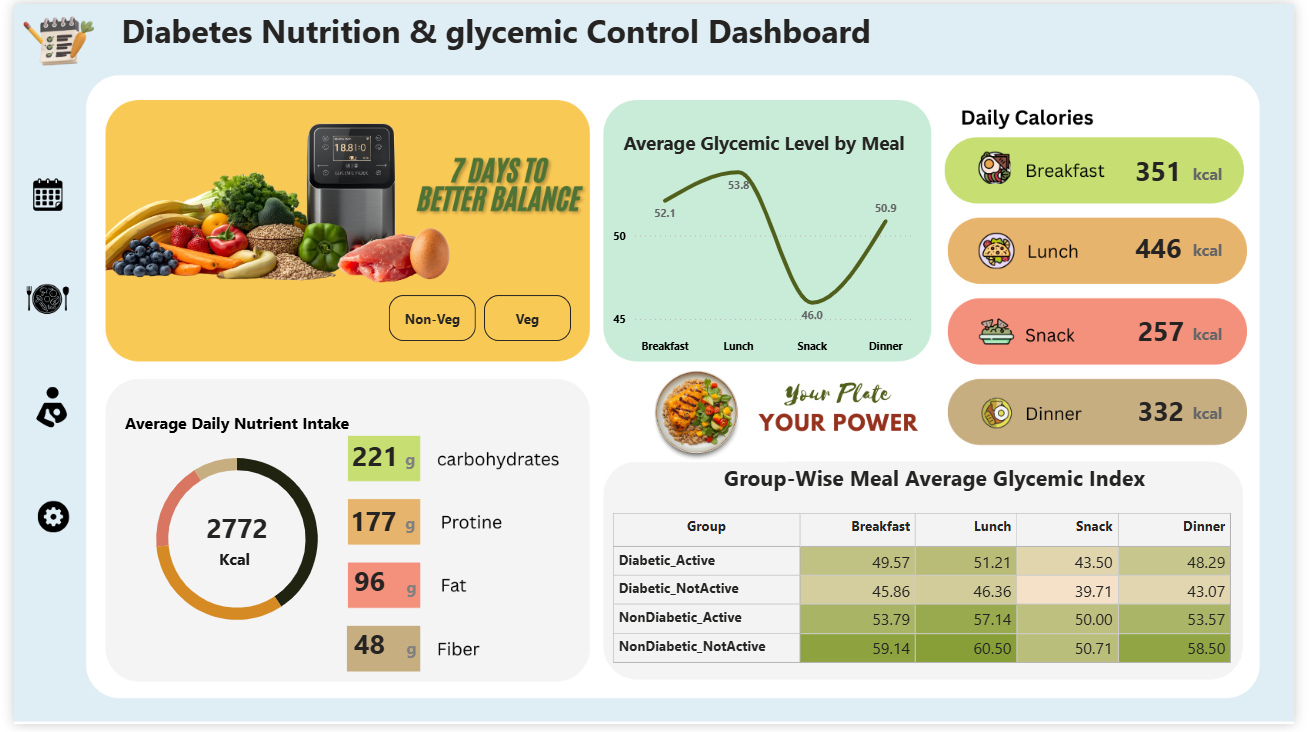

The page's visual inventory and layout, read from the dashboard file:
{"tool":"powerbi","page":{"name":"Page 1","canvas":[1280,720],"ordinal":0},"visuals":[{"type":"textbox","box":[102.5,0,803.8,77.5],"z":0},{"type":"card","fields":{"Values":["Diabetic.Avg Breakfast Calories"]},"box":[1110,143.8,68.8,47.5],"z":1000},{"type":"card","fields":{"Values":["Diabetic.Avg Lunch Calories"]},"box":[1110,223.7,68.9,42.6],"z":2000},{"type":"card","fields":{"Values":["Diabetic.Avg Snack Calories"]},"box":[1118.9,296.3,56.3,63.7],"z":3000},{"type":"card","fields":{"Values":["Diabetic.Avg Dinner Calories"]},"box":[1116.8,391.1,61.6,32.6],"z":4000},{"type":"lineChart","title":"Average Glycemic Level by Meal","fields":{"Category":["Diabetic.Meal"],"Y":["Diabetic.Avg glycemic level"]},"box":[593.8,126.2,312.5,233.8],"z":5000},{"type":"donutChart","title":"Average Daily Nutrient Intake","fields":{"Y":["Diabetic.Avg Carbs per day per Group","Diabetic.Avg Protien per day per Group","Diabetic.Avg Fat per day per Group","Diabetic.Avg Fibre per day per Group"]},"box":[88.8,407.5,268.8,233.8],"z":6000},{"type":"card","fields":{"Values":["Diabetic.Avg Calories per day per Group"]},"box":[183.8,492.5,78.8,65],"z":7000},{"type":"card","fields":{"Values":["Diabetic.Avg Protien per day per Group"]},"box":[327.5,502.5,63.8,31.2],"z":8000},{"type":"textbox","box":[200,538.8,62.5,38.8],"z":9000},{"type":"card","fields":{"Values":["Diabetic.Avg Carbs per day per Group"]},"box":[326,419.7,70,65],"z":10000},{"type":"card","fields":{"Values":["Diabetic.Avg Fat per day per Group"]},"box":[332.5,561.2,46.2,32.5],"z":11000},{"type":"card","fields":{"Values":["Diabetic.Avg Fibre per day per Group"]},"box":[330,620,51.2,41.2],"z":12000},{"type":"pivotTable","fields":{"Rows":["Diabetic.Group"],"Columns":["Diabetic.Meal"],"Values":["Diabetic.Avg glycemic level"]},"box":[593.8,503.8,637.5,168.8],"z":13000},{"type":"textbox","box":[705,453.8,491.2,38.8],"z":14000},{"type":"advancedSlicerVisual","fields":{"Values":["Diabetic.Veg/Non-Veg"]},"box":[370,286.2,192.5,56.2],"z":15000},{"type":"textbox","box":[386.7,438.8,63.8,40],"z":16000},{"type":"textbox","box":[386.7,502.5,63.8,40],"z":17000},{"type":"textbox","box":[388,566.2,63.8,40],"z":18000},{"type":"textbox","box":[388,627.5,63.8,40],"z":19000},{"type":"textbox","box":[1174,154.2,41.1,36.3],"z":20000},{"type":"textbox","box":[1174,230.5,41.1,36.3],"z":21000},{"type":"textbox","box":[1174,313.6,41.1,36.3],"z":22000},{"type":"textbox","box":[1173.9,393,41.4,35.7],"z":23000}]}

Visuals, with their boxes in screenshot pixels (x1, y1, x2, y2), scaled from the page's 1280x720 canvas onto the 1310x732 screenshot:
textbox: {"left": 105, "top": 0, "right": 928, "bottom": 79}
card - Diabetic.Avg Breakfast Calories: {"left": 1136, "top": 146, "right": 1206, "bottom": 194}
card - Diabetic.Avg Lunch Calories: {"left": 1136, "top": 227, "right": 1207, "bottom": 271}
card - Diabetic.Avg Snack Calories: {"left": 1145, "top": 301, "right": 1203, "bottom": 366}
card - Diabetic.Avg Dinner Calories: {"left": 1143, "top": 398, "right": 1206, "bottom": 431}
"Average Glycemic Level by Meal" lineChart: {"left": 608, "top": 128, "right": 928, "bottom": 366}
"Average Daily Nutrient Intake" donutChart: {"left": 91, "top": 414, "right": 366, "bottom": 652}
card - Diabetic.Avg Calories per day per Group: {"left": 188, "top": 501, "right": 269, "bottom": 567}
card - Diabetic.Avg Protien per day per Group: {"left": 335, "top": 511, "right": 400, "bottom": 543}
textbox: {"left": 205, "top": 548, "right": 269, "bottom": 587}
card - Diabetic.Avg Carbs per day per Group: {"left": 334, "top": 427, "right": 405, "bottom": 493}
card - Diabetic.Avg Fat per day per Group: {"left": 340, "top": 571, "right": 388, "bottom": 604}
card - Diabetic.Avg Fibre per day per Group: {"left": 338, "top": 630, "right": 390, "bottom": 672}
pivotTable - Diabetic.Group x Diabetic.Meal: {"left": 608, "top": 512, "right": 1260, "bottom": 684}
textbox: {"left": 722, "top": 461, "right": 1224, "bottom": 501}
advancedSlicerVisual - Diabetic.Veg/Non-Veg: {"left": 379, "top": 291, "right": 576, "bottom": 348}
textbox: {"left": 396, "top": 446, "right": 461, "bottom": 487}
textbox: {"left": 396, "top": 511, "right": 461, "bottom": 552}
textbox: {"left": 397, "top": 576, "right": 462, "bottom": 616}
textbox: {"left": 397, "top": 638, "right": 462, "bottom": 679}
textbox: {"left": 1202, "top": 157, "right": 1244, "bottom": 194}
textbox: {"left": 1202, "top": 234, "right": 1244, "bottom": 271}
textbox: {"left": 1202, "top": 319, "right": 1244, "bottom": 356}
textbox: {"left": 1201, "top": 400, "right": 1244, "bottom": 436}
